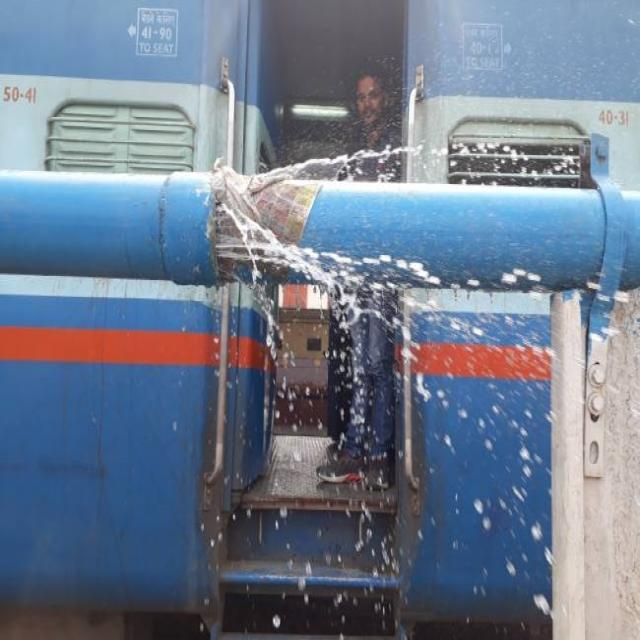gas: (258, 182, 640, 291), (0, 172, 230, 286)
